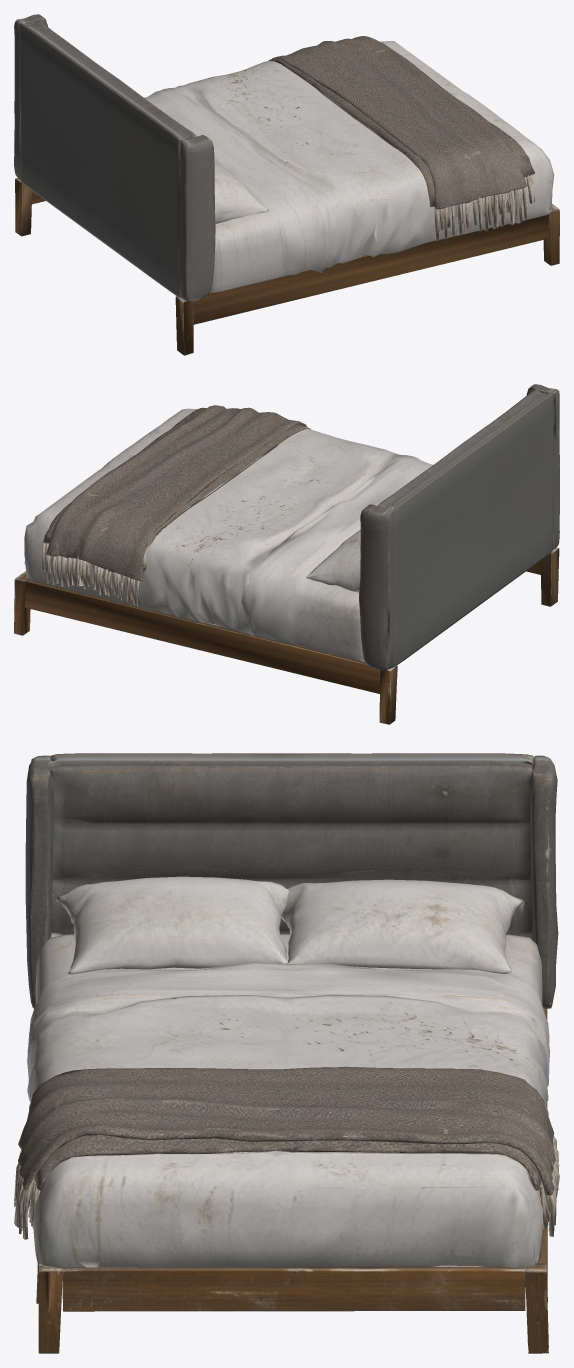
Rendered from skyways-d-ds-bed.glb.
The picture shows the model from 3 angles, top to bottom: view 1: azimuth 30°, elevation 25°; view 2: azimuth 150°, elevation 25°; view 3: azimuth 270°, elevation 25°; orthographic projection. The views are drawn at different scales.
Parts seen in each view (by area): view 1: skyways-d-ds-bed; view 2: skyways-d-ds-bed; view 3: skyways-d-ds-bed.
Part boxes in pixels (x1,y1,x2,y2): skyways-d-ds-bed: [14, 14, 559, 355]; skyways-d-ds-bed: [14, 384, 559, 724]; skyways-d-ds-bed: [14, 753, 559, 1353].
Bounding box in the file's own units: 2.2 × 1.18 × 1.81.
1 material, 1 textured.
